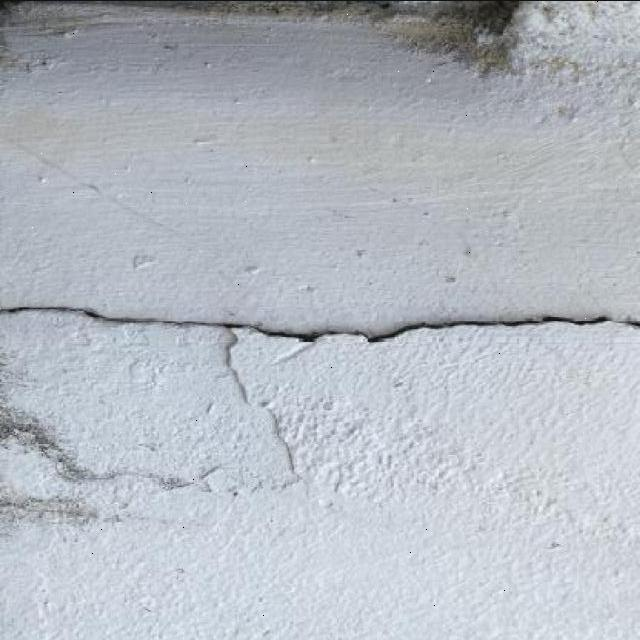crack: (2, 299, 635, 550), (0, 304, 639, 342), (17, 142, 197, 247), (208, 326, 268, 483), (2, 483, 197, 531), (4, 303, 252, 331), (8, 133, 108, 199), (59, 464, 196, 487), (217, 328, 244, 403), (0, 303, 62, 317), (80, 309, 112, 321)
